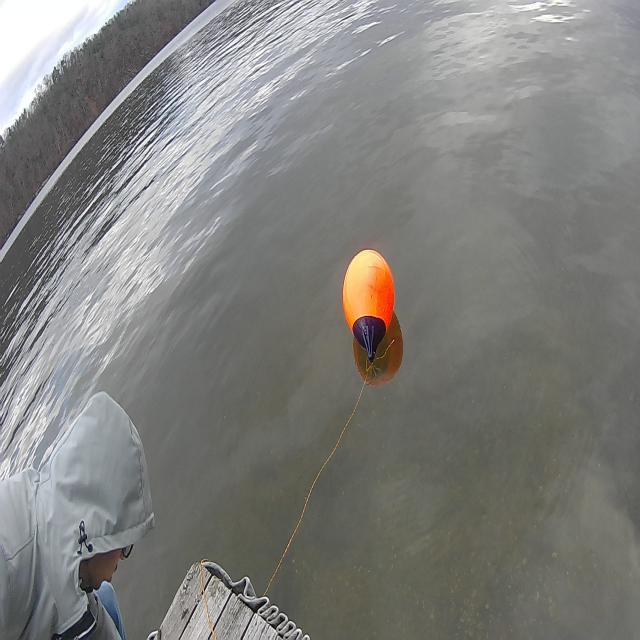Buoy: (338, 241, 404, 371)
